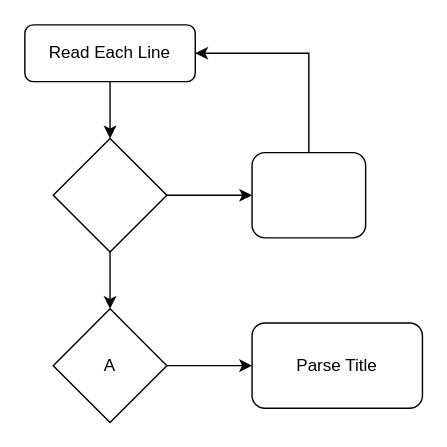
This 447x447 diagram has some shape labels left out. Each missing label, with the centre of its shape:
"Skip" belongs at (x=308, y=194).
"Start?" belongs at (x=109, y=194).
